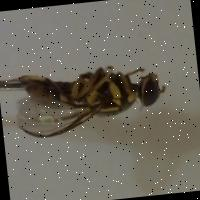Oriental-fruit-fly: (5, 40, 172, 148)
